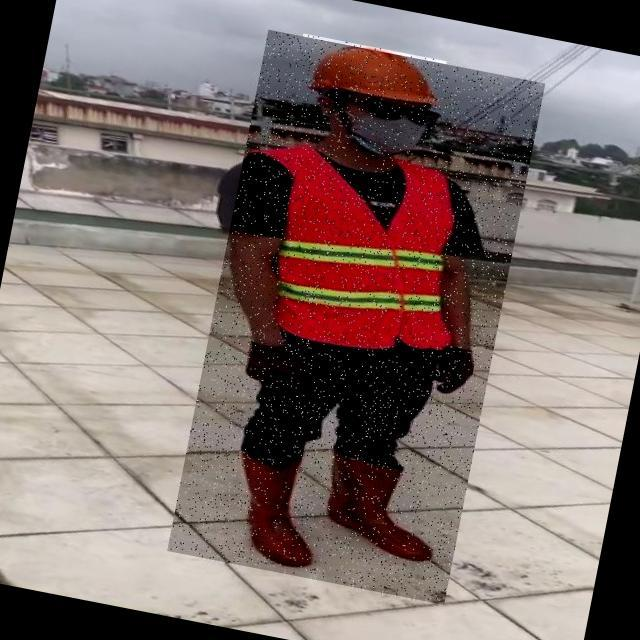Gloves: (235, 342, 315, 398), (432, 350, 476, 401)
Helmet: (293, 34, 447, 118)
Human: (167, 31, 545, 607)
Safety Boot: (311, 445, 447, 568), (220, 452, 330, 573)
Safety Vest: (262, 146, 480, 370)
